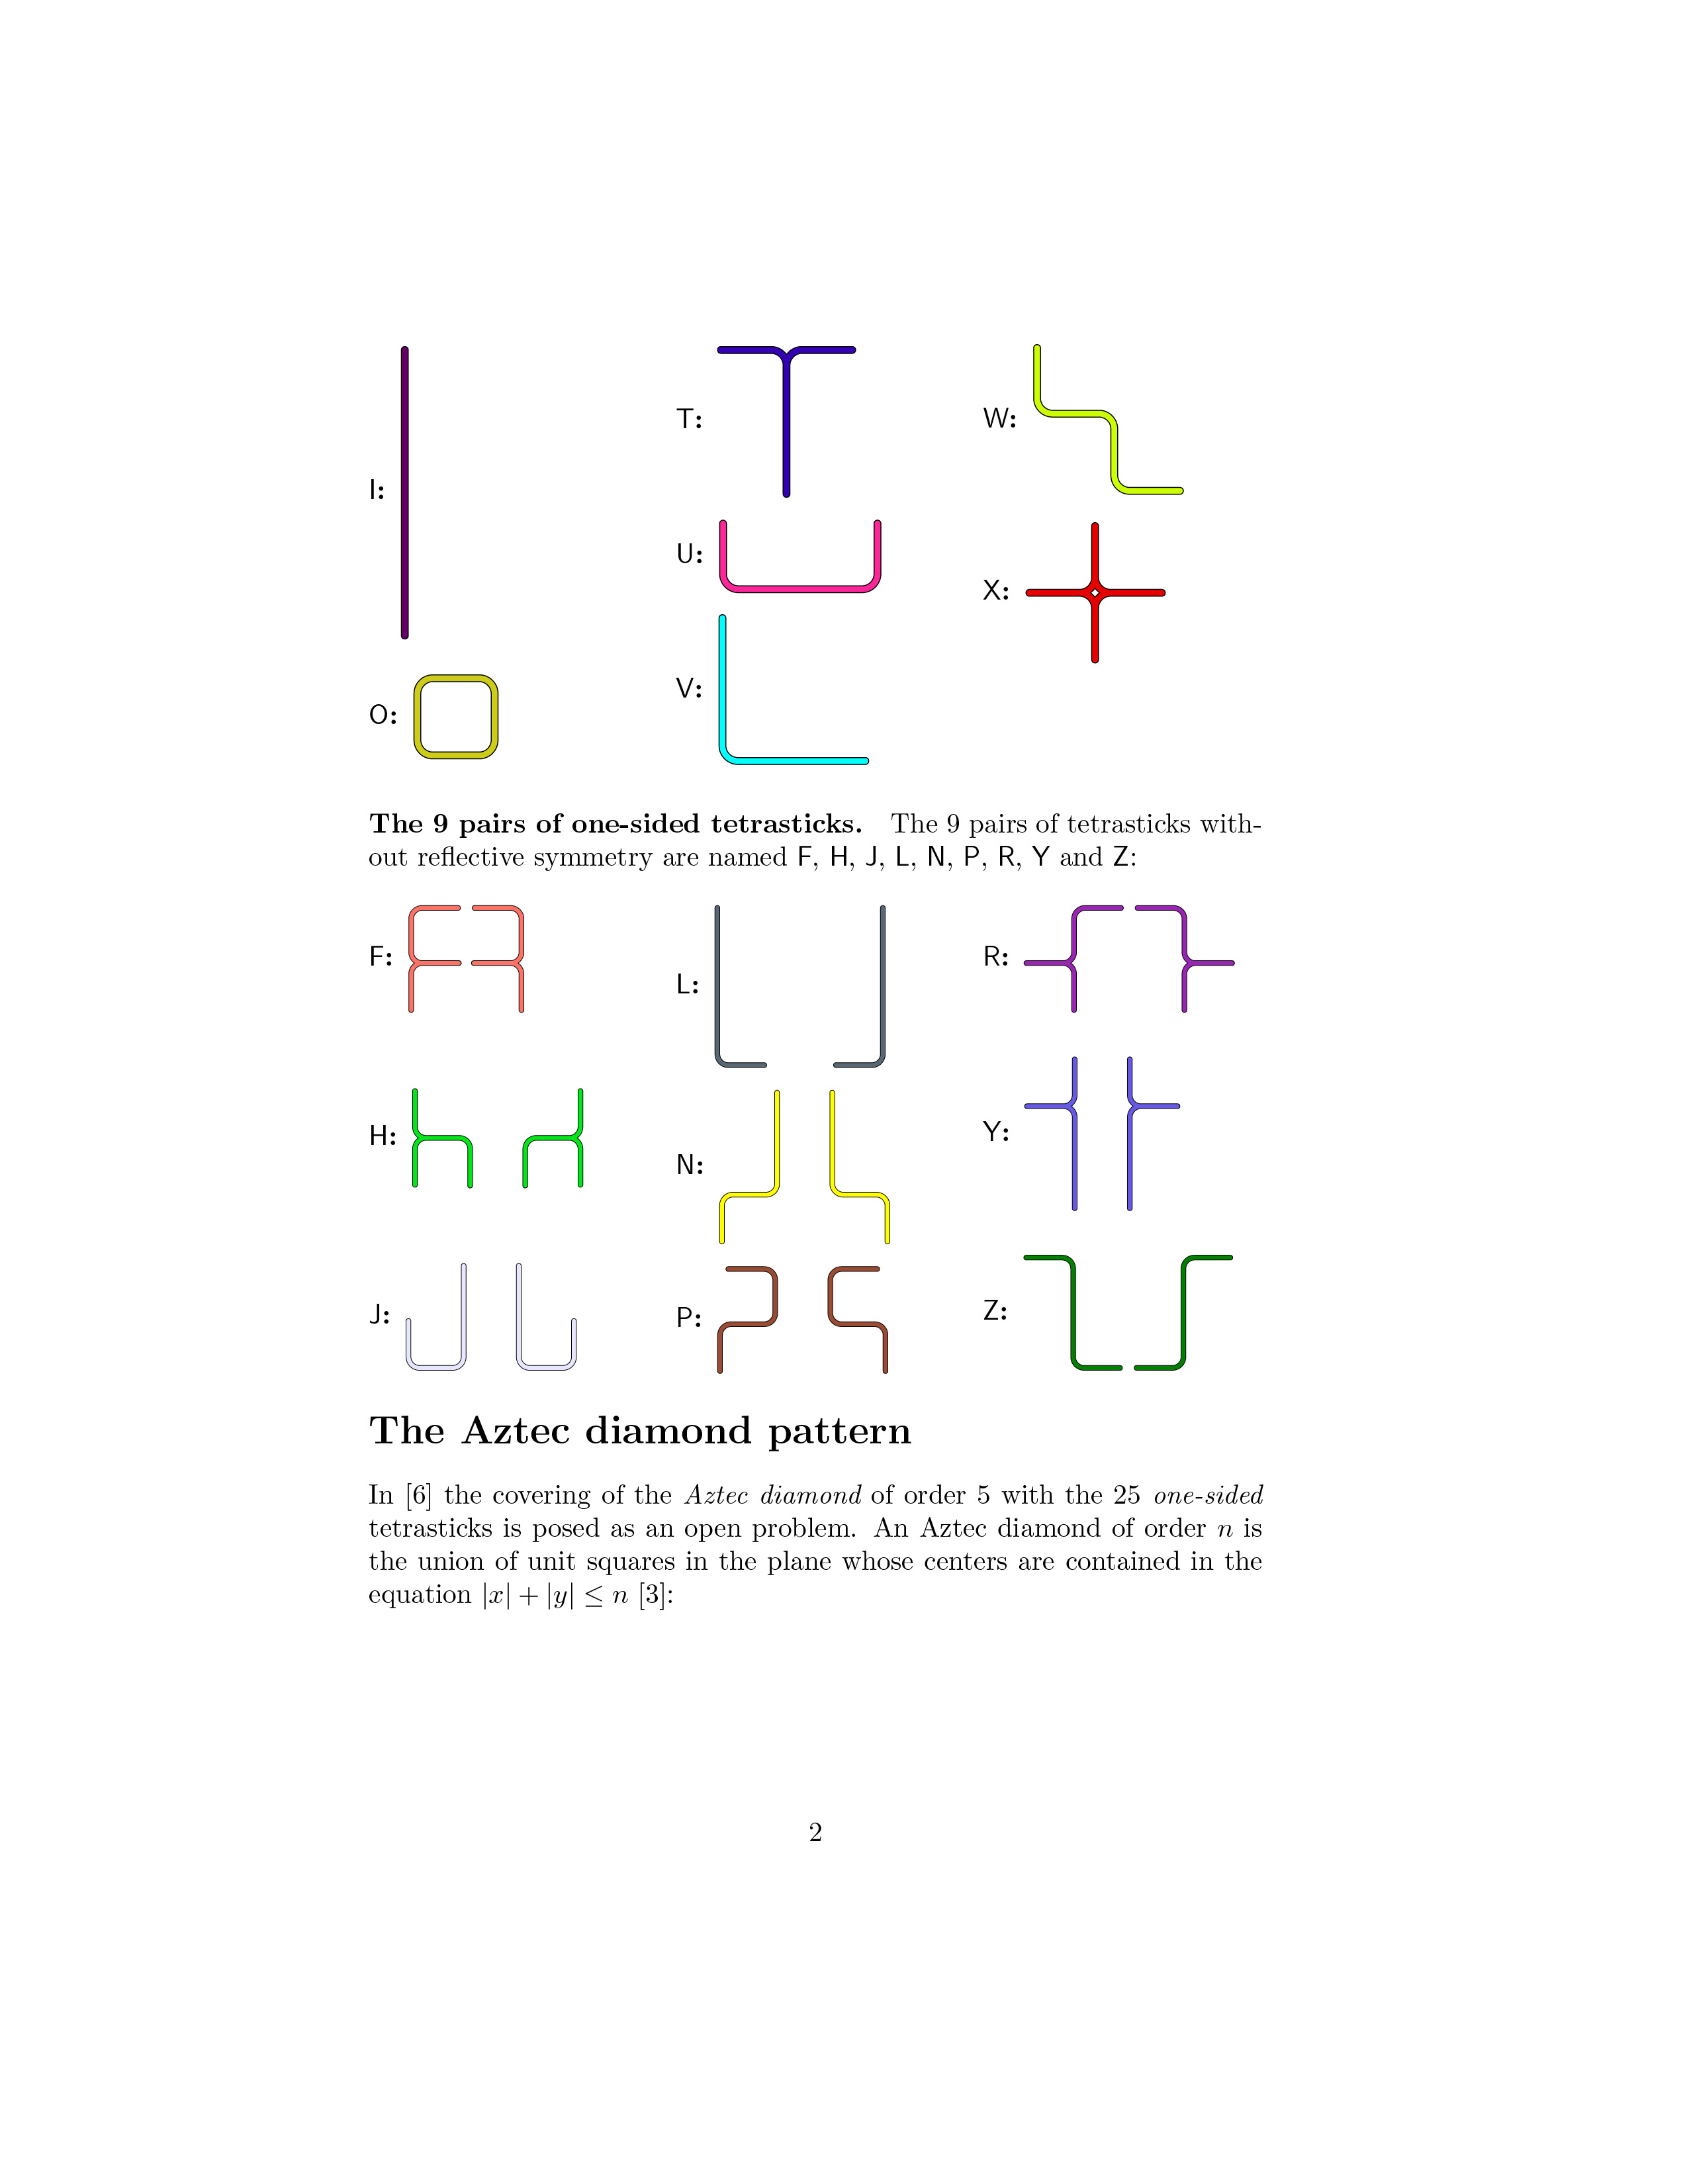caption: (343, 816, 1244, 892)
figure: (363, 306, 1244, 819), (356, 915, 1251, 1391)
section: (347, 1398, 929, 1451)
text: (352, 1465, 1278, 1628), (347, 812, 1276, 906)
